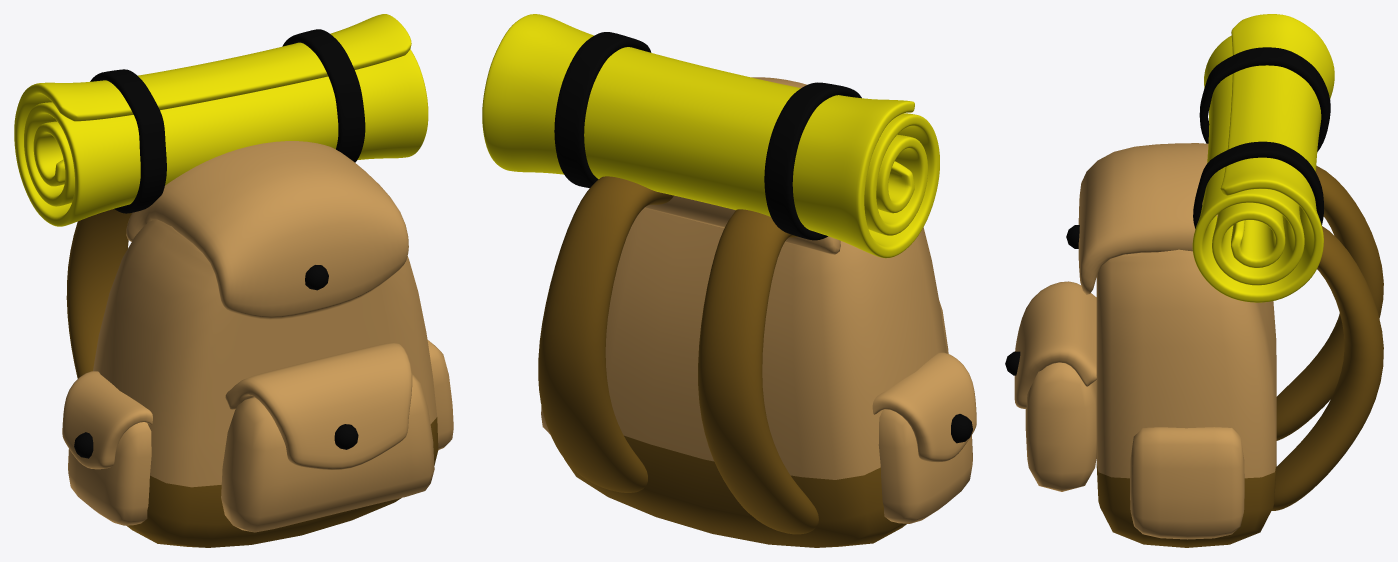
3 renders of one model, left to right at view 1: azimuth 30°, elevation 25°; view 2: azimuth 150°, elevation 25°; view 3: azimuth 270°, elevation 25°, orthographic. The views are drawn at different scales.
Parts seen in each view (by area): view 1: tas; view 2: tas; view 3: tas.
Part boxes in pixels (<box>): tas: <box>14,14,453,547</box>; tas: <box>482,14,976,547</box>; tas: <box>1005,14,1383,547</box>.
Bounding box in the file's own units: 1.66 × 1.91 × 1.58.
